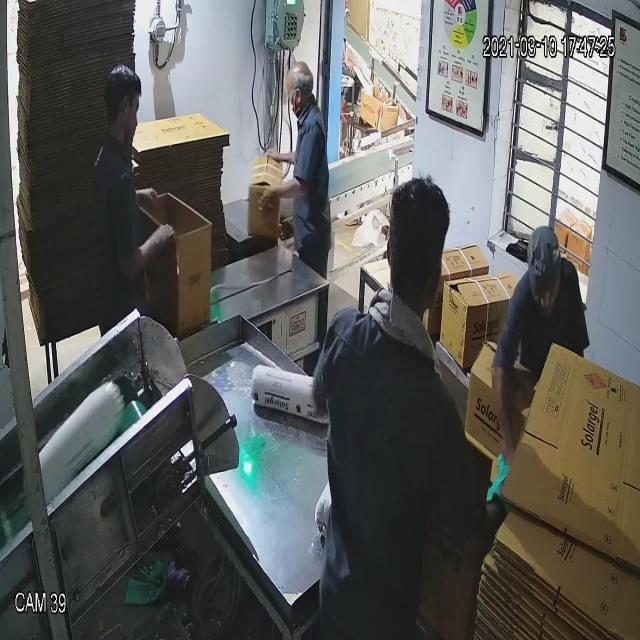No_Gloves: (48, 60, 512, 410)
